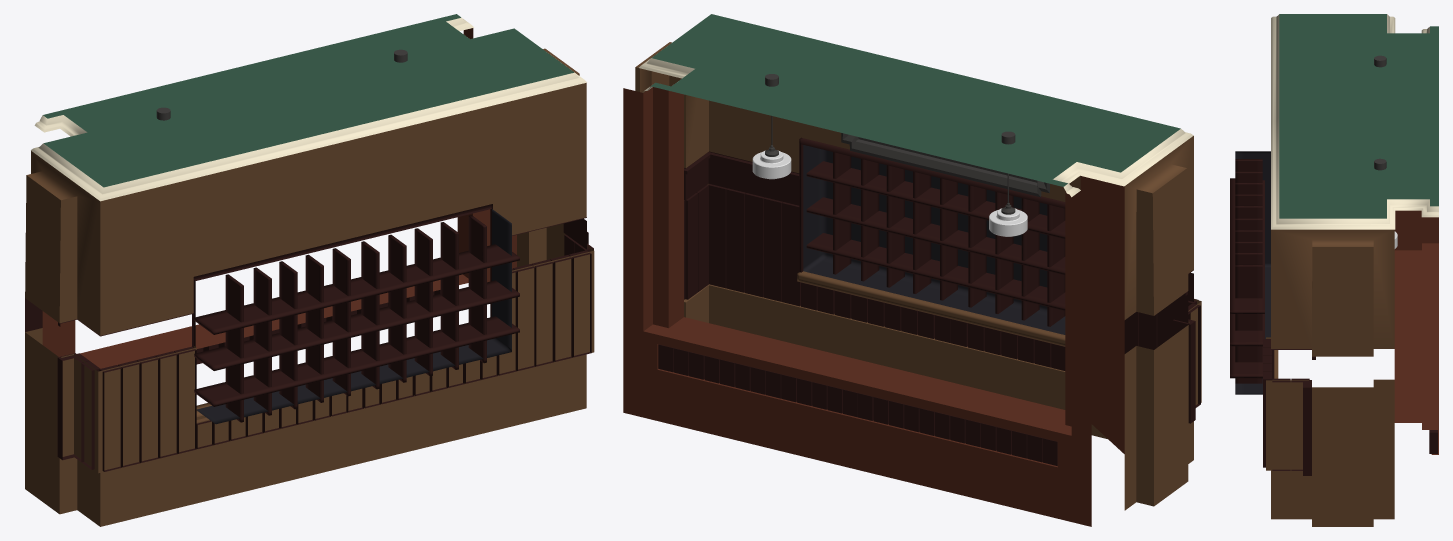
Rendered from front_desk_mk6.fbx.
The picture shows the model from 3 angles, left to right: view 1: azimuth 30°, elevation 25°; view 2: azimuth 150°, elevation 25°; view 3: azimuth 270°, elevation 25°; orthographic projection. The views are drawn at different scales.
Visible parts, largest first — view 1: Cube.075, Cube.081, Cube.088, Cube.077, Plane.014, Cube.090, Cube.122, Cube.092, Plane.015; view 2: Cube.122, Cube.075, Cube.081, Cube.088, Plane.014, Cube.123, Cube.090, Cube.092, Plane.015, Plane.011, Cube.077, Plane.012 (+1 smaller); view 3: Cube.075, Cube.081, Cube.122, Cube.088, Cube.077, Cube.090, Plane.014, Plane.013.
Boxes of the visible parts, <box> form: Cube.075: <box>25,48,594,526</box>; Cube.081: <box>43,14,574,187</box>; Cube.088: <box>194,215,519,422</box>; Cube.077: <box>31,17,586,201</box>; Plane.014: <box>57,232,593,471</box>; Cube.090: <box>197,209,511,424</box>; Cube.122: <box>80,28,473,368</box>; Cube.092: <box>192,204,492,416</box>; Plane.015: <box>25,217,586,336</box>; Cube.122: <box>623,87,1091,526</box>; Cube.075: <box>635,42,1201,510</box>; Cube.081: <box>651,14,1180,186</box>; Cube.088: <box>806,152,1065,326</box>; Plane.014: <box>684,184,1200,423</box>; Cube.123: <box>658,344,1057,465</box>; Cube.090: <box>803,145,1065,334</box>; Cube.092: <box>797,137,1065,346</box>; Plane.015: <box>684,151,1193,324</box>; Plane.011: <box>841,133,1049,197</box>; Cube.077: <box>639,58,1193,197</box>; Plane.012: <box>752,150,1027,236</box>; Cube.075: <box>1266,229,1394,526</box>; Cube.081: <box>1279,14,1438,218</box>; Cube.122: <box>1394,210,1438,454</box>; Cube.088: <box>1230,159,1264,383</box>; Cube.077: <box>1271,14,1438,229</box>; Cube.090: <box>1235,151,1270,394</box>; Plane.014: <box>1263,339,1311,475</box>; Plane.013: <box>1374,55,1386,170</box>.
Size of the model in its own units: 526 by 326 by 203.
